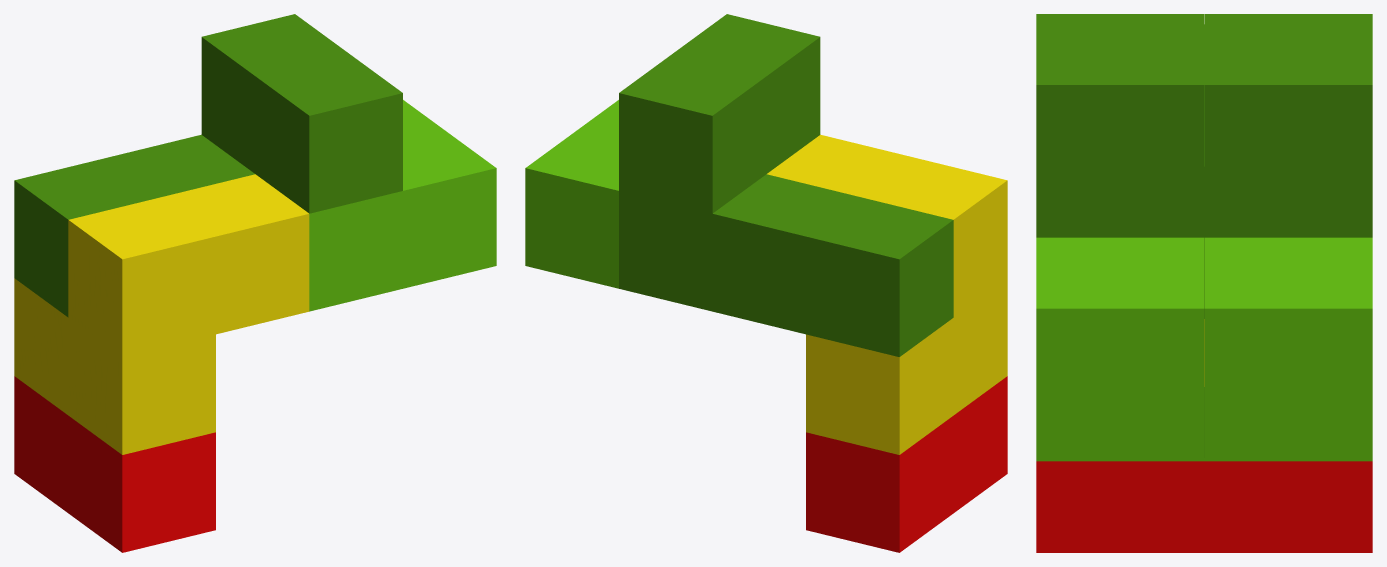
3 renders of one model, left to right at view 1: azimuth 30°, elevation 25°; view 2: azimuth 150°, elevation 25°; view 3: azimuth 270°, elevation 25°, orthographic. The views are drawn at different scales.
Parts seen in each view (by area): view 1: mergedBlocks(Clone); view 2: mergedBlocks(Clone); view 3: mergedBlocks(Clone).
Part boxes in pixels (left/top/right/bottom): mergedBlocks(Clone): left=14, top=14, right=496, bottom=552; mergedBlocks(Clone): left=525, top=14, right=1007, bottom=552; mergedBlocks(Clone): left=1036, top=14, right=1372, bottom=552.
Size of the model in its own units: 4 by 4 by 2.
4 materials, 4 textured.
